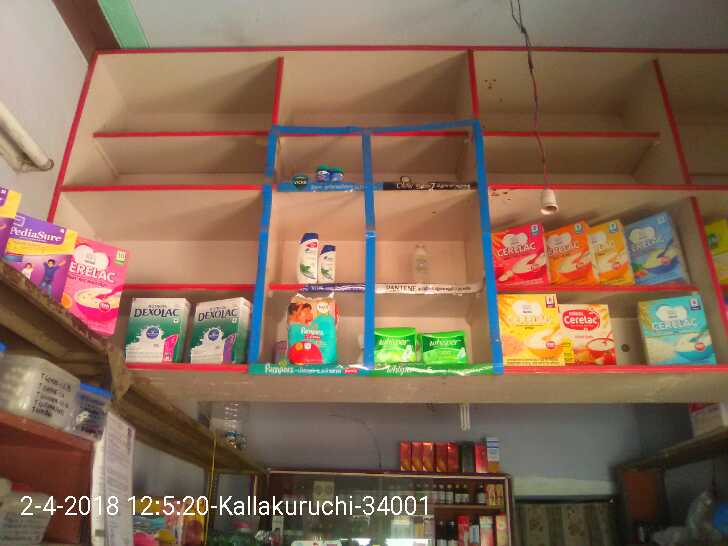vicks: (316, 163, 348, 183)
